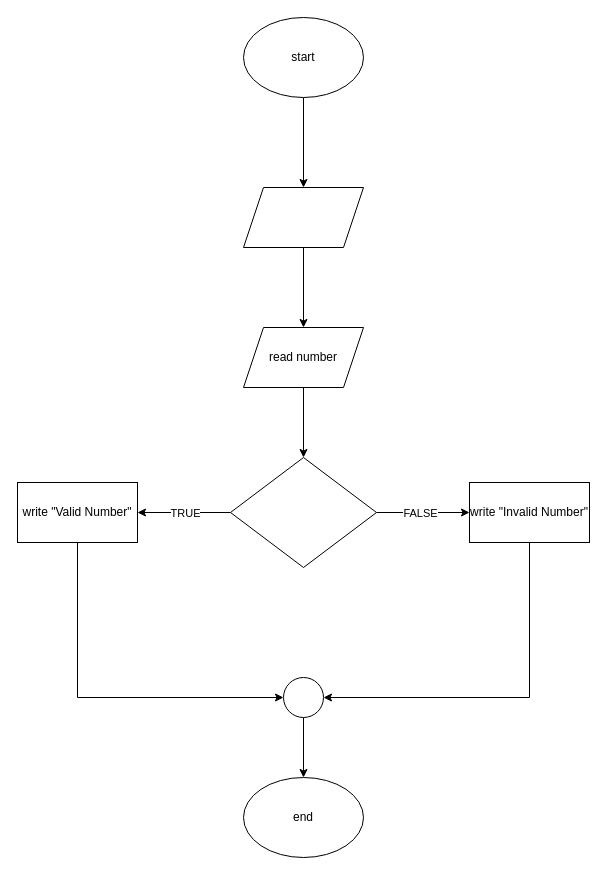
The diagram is 607 pixels wide and 875 high, and some of its shapes have lost their labels. Each missing label, with the box of its shape:
number % 2 == 0 AND number > 10: (230, 456, 376, 568)
write "Write an integer number": (242, 186, 364, 248)
